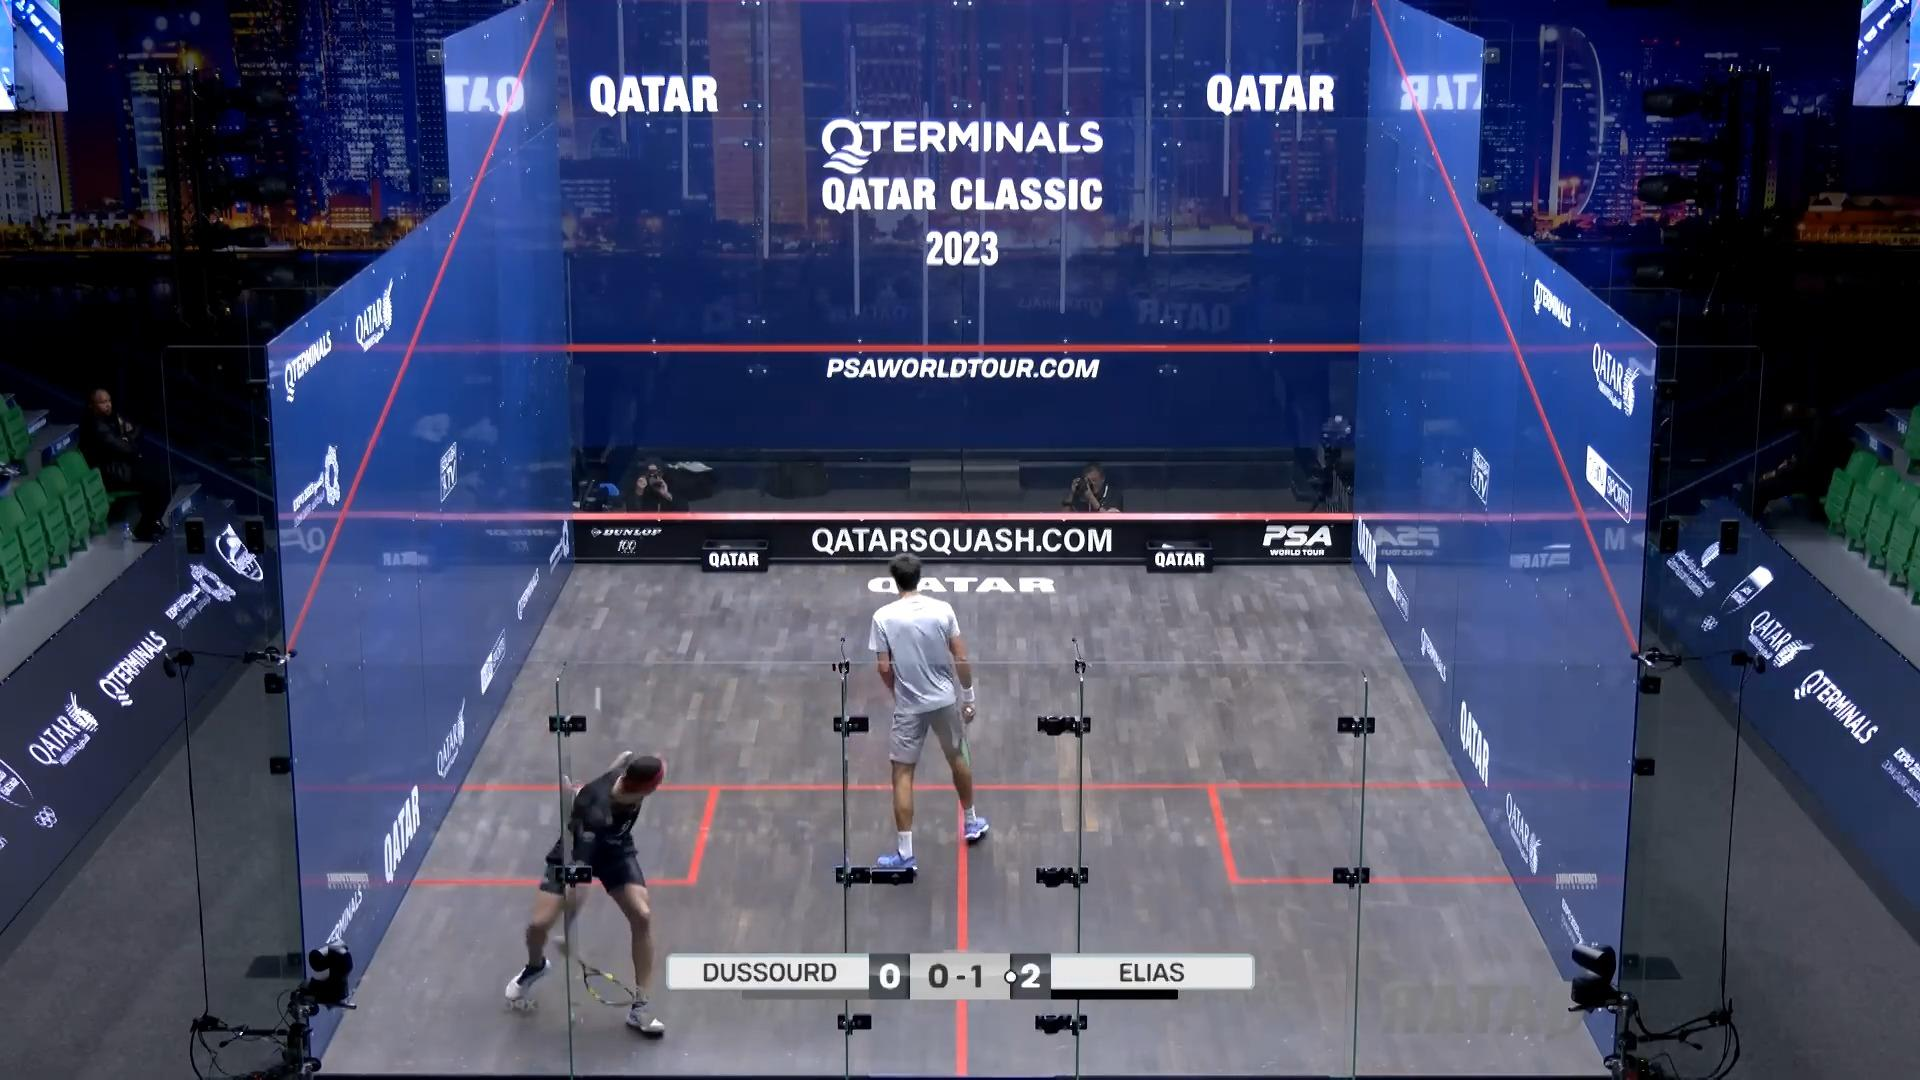Racket: (568, 945, 638, 1009)
